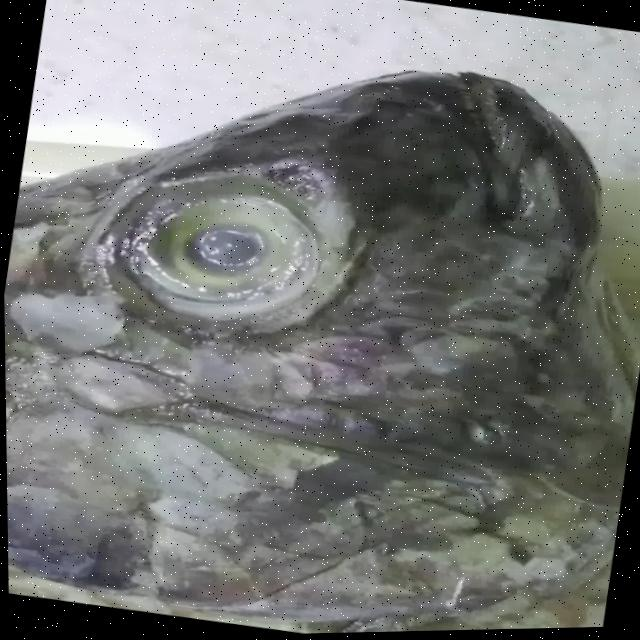Non-Fresh: (100, 156, 367, 353)
